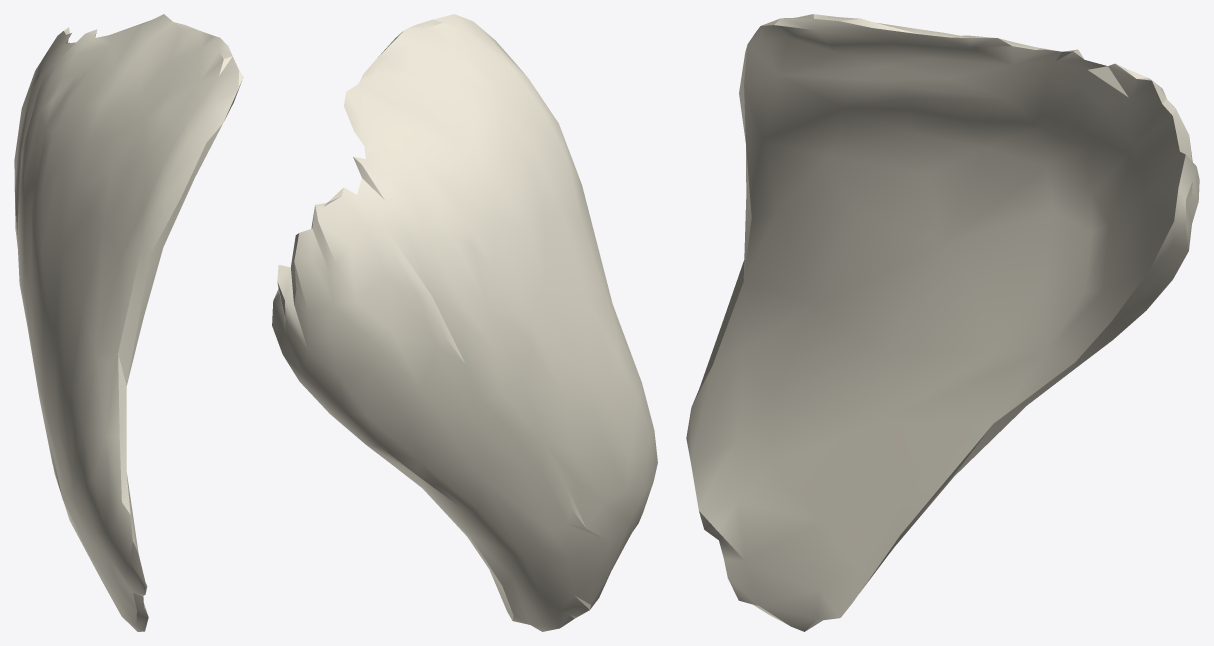
Rendered from fma321713-l_mm1474.glb.
3 views of the same model, side by side, from view 1: azimuth 30°, elevation 25°; view 2: azimuth 150°, elevation 25°; view 3: azimuth 270°, elevation 25° (orthographic). The views are drawn at different scales.
Parts seen in each view (by area): view 1: FMA321713-L_MM1474; view 2: FMA321713-L_MM1474; view 3: FMA321713-L_MM1474.
Part boxes in pixels (bbox=[...]): FMA321713-L_MM1474: bbox=[14, 14, 243, 631]; FMA321713-L_MM1474: bbox=[272, 14, 657, 631]; FMA321713-L_MM1474: bbox=[686, 14, 1199, 631].
Bounding box in the file's own units: 0.00528 × 0.0149 × 0.0103.
